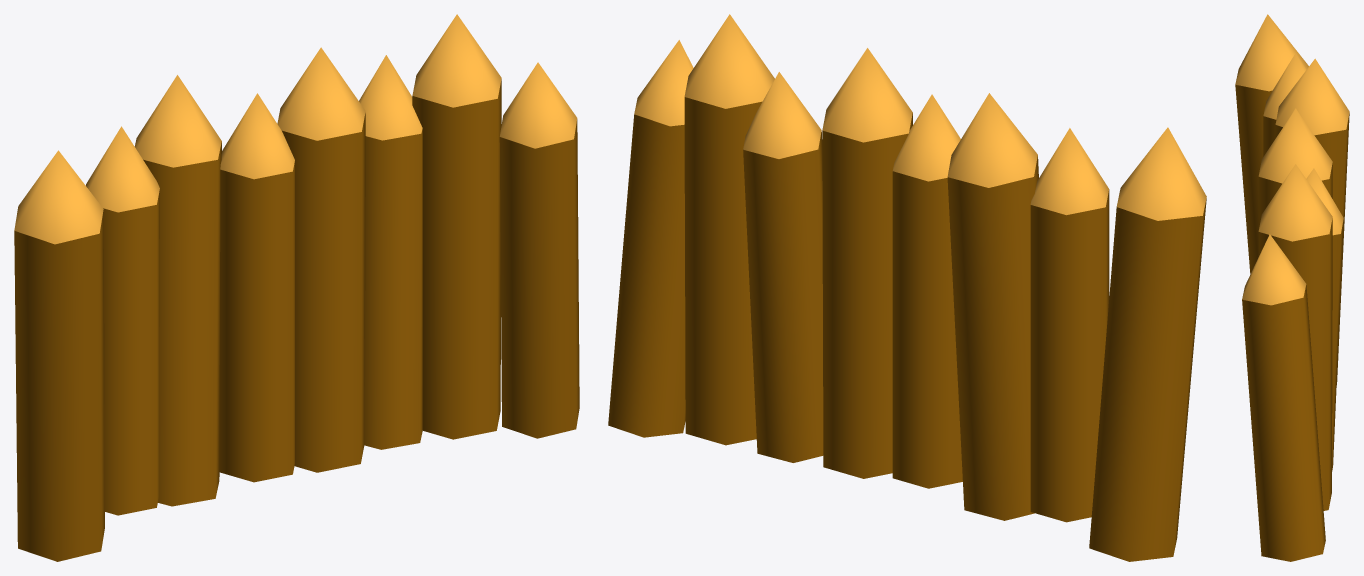
File: fence2.fbx
3 views of the same model, side by side, from view 1: azimuth 30°, elevation 25°; view 2: azimuth 150°, elevation 25°; view 3: azimuth 270°, elevation 25° (orthographic). The views are drawn at different scales.
Visible parts, largest first — view 1: fence2; view 2: fence2; view 3: fence2.
Boxes of the visible parts, x1=… form: fence2: x1=14, y1=14, x2=579, y2=561; fence2: x1=608, y1=14, x2=1206, y2=561; fence2: x1=1235, y1=14, x2=1349, y2=561.
Size of the model in its own units: 137 by 98.03 by 28.45.
